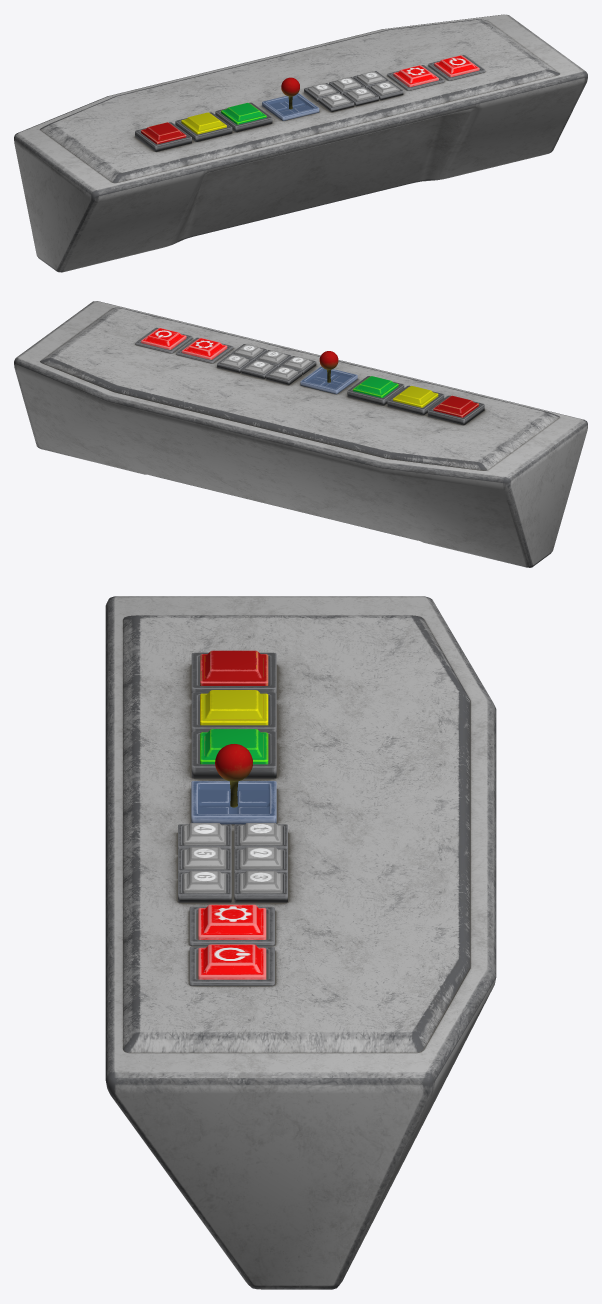
Rendered from knopki1.fbx.
The picture shows the model from 3 angles, top to bottom: view 1: azimuth 30°, elevation 25°; view 2: azimuth 150°, elevation 25°; view 3: azimuth 270°, elevation 25°; orthographic projection. The views are drawn at different scales.
Parts seen in each view (by area): view 1: Plane.001, Plane.003, Cube.005, Cube.023, Cube.015, Cube.017, Cube.019, Cube.021, Cube.020, Cube.018, Cube.016, Sphere.001; view 2: Plane.001, Plane.003, Cube.005, Cube.023, Cube.019, Cube.015, Cube.017, Cube.021, Cube.020, Cube.018, Cube.016; view 3: Plane.003, Plane.001, Cube.005, Cube.017, Cube.021, Cube.023, Cube.019, Cube.015, Cube.016, Sphere.001, Cube.022, Cube.020 (+8 smaller).
Boxes of the visible parts, box(x1,y1,x2,y2) form: Plane.001: box(14, 14, 587, 272); Plane.003: box(40, 19, 559, 183); Cube.005: box(262, 93, 319, 120); Cube.023: box(393, 65, 438, 87); Cube.015: box(221, 102, 266, 124); Cube.017: box(181, 112, 226, 134); Cube.019: box(141, 122, 186, 144); Cube.021: box(434, 55, 479, 77); Cube.020: box(135, 122, 191, 151); Cube.018: box(175, 112, 232, 141); Cube.016: box(215, 102, 272, 132); Sphere.001: box(281, 77, 299, 109); Plane.001: box(14, 301, 587, 567); Plane.003: box(40, 307, 559, 470); Cube.005: box(300, 366, 357, 394); Cube.023: box(181, 338, 227, 359); Cube.019: box(433, 395, 478, 417); Cube.015: box(353, 376, 398, 397); Cube.017: box(393, 386, 438, 407); Cube.021: box(141, 328, 186, 349); Cube.020: box(427, 395, 484, 425); Cube.018: box(387, 385, 444, 415); Cube.016: box(347, 376, 404, 405); Plane.003: box(123, 615, 470, 1052); Plane.001: box(105, 596, 496, 1289); Cube.005: box(191, 781, 276, 824); Cube.017: box(200, 690, 268, 725); Cube.021: box(198, 944, 266, 979); Cube.023: box(198, 904, 266, 939); Cube.019: box(200, 650, 268, 685); Cube.015: box(200, 729, 268, 764); Cube.016: box(191, 731, 276, 778); Sphere.001: box(215, 744, 252, 807); Cube.022: box(189, 946, 274, 985); Cube.020: box(191, 652, 276, 692).
Size of the model in its own units: 255 by 70.56 by 87.02.
Materials: 10 (10 with a texture image).
